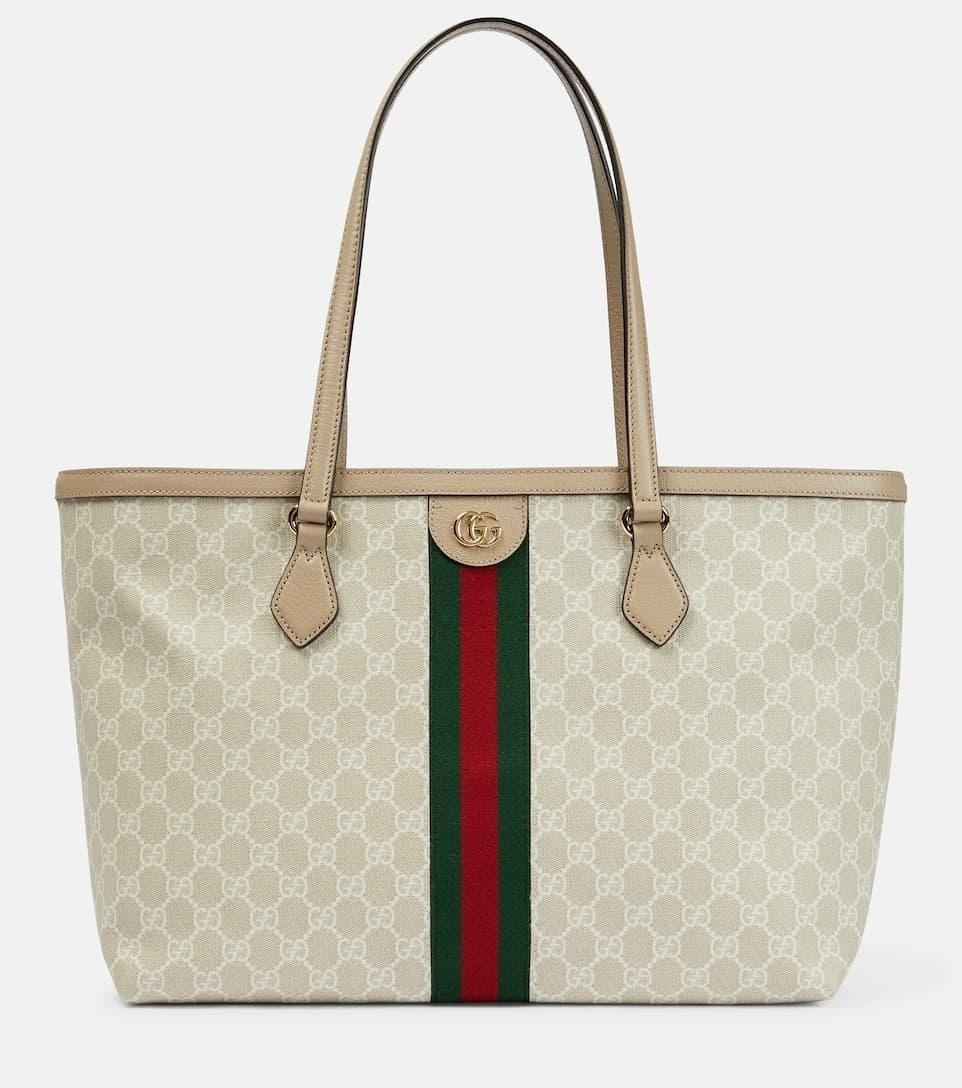GUCCI: (453, 510, 503, 548)
